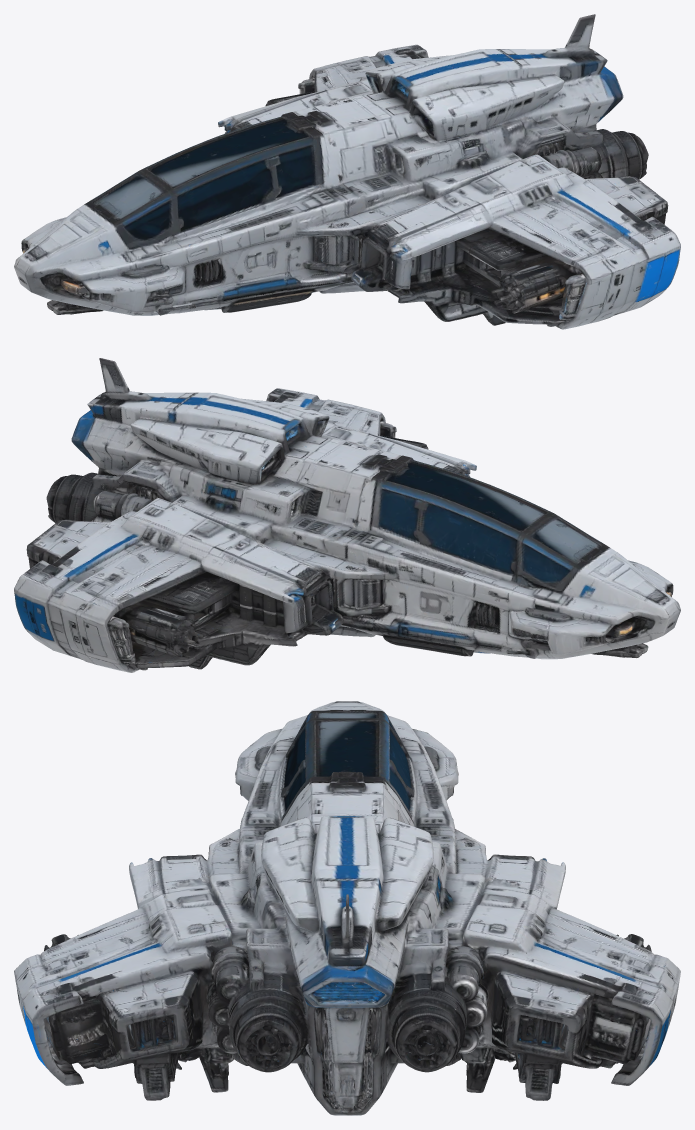
Rendered from 高模飞船-陈政阳.glb.
The picture shows the model from 3 angles, top to bottom: view 1: azimuth 30°, elevation 25°; view 2: azimuth 150°, elevation 25°; view 3: azimuth 270°, elevation 25°; orthographic projection. The views are drawn at different scales.
Size of the model in its own units: 1.9 by 0.7148 by 1.57.
Materials: 1 (1 with a texture image).
